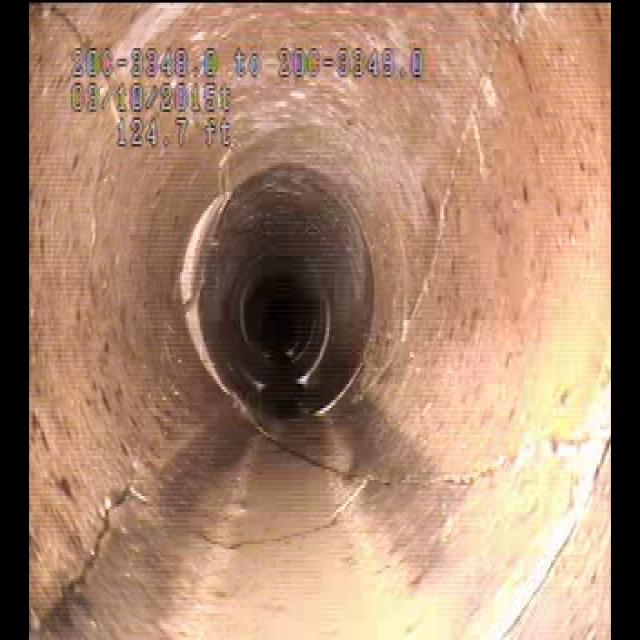Fracture: (51, 444, 260, 607), (277, 416, 585, 514)
